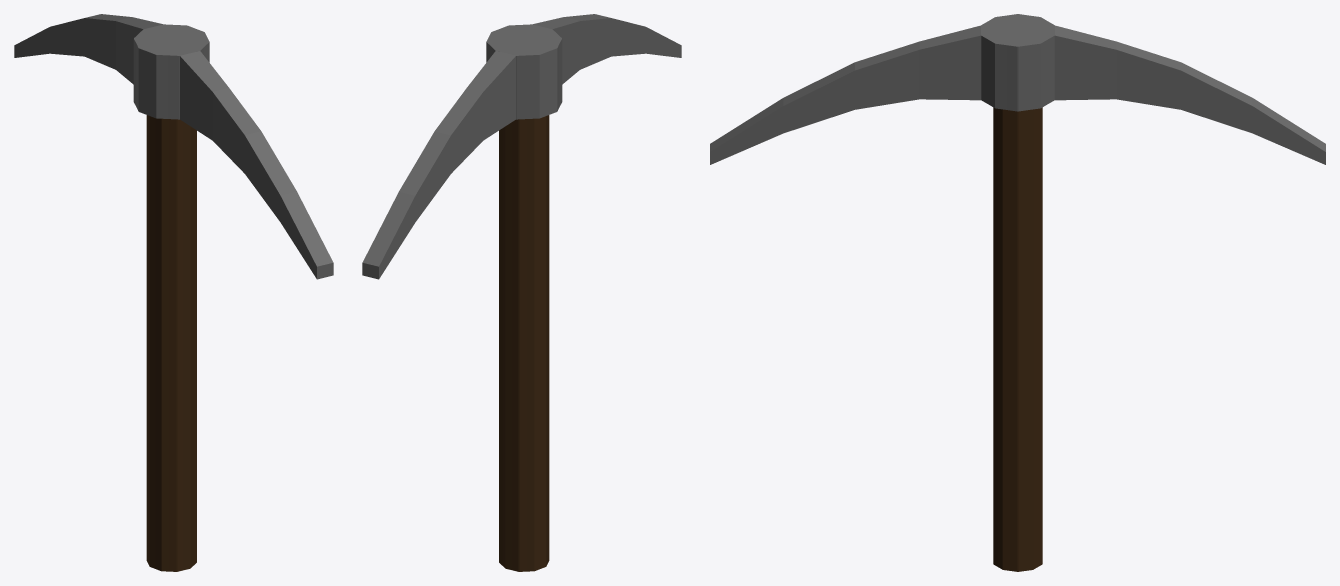
Rendered from Pickaxe.glb.
3 views of the same model, side by side, from view 1: azimuth 30°, elevation 25°; view 2: azimuth 150°, elevation 25°; view 3: azimuth 270°, elevation 25° (orthographic).
Parts seen in each view (by area): view 1: Pickaxe; view 2: Pickaxe; view 3: Pickaxe.
Boxes of the visible parts, bbox=[...] form: Pickaxe: bbox=[14, 14, 333, 571]; Pickaxe: bbox=[362, 14, 681, 571]; Pickaxe: bbox=[710, 14, 1325, 571].
Bounding box in the file's own units: 0.2 × 1.51 × 1.59.
